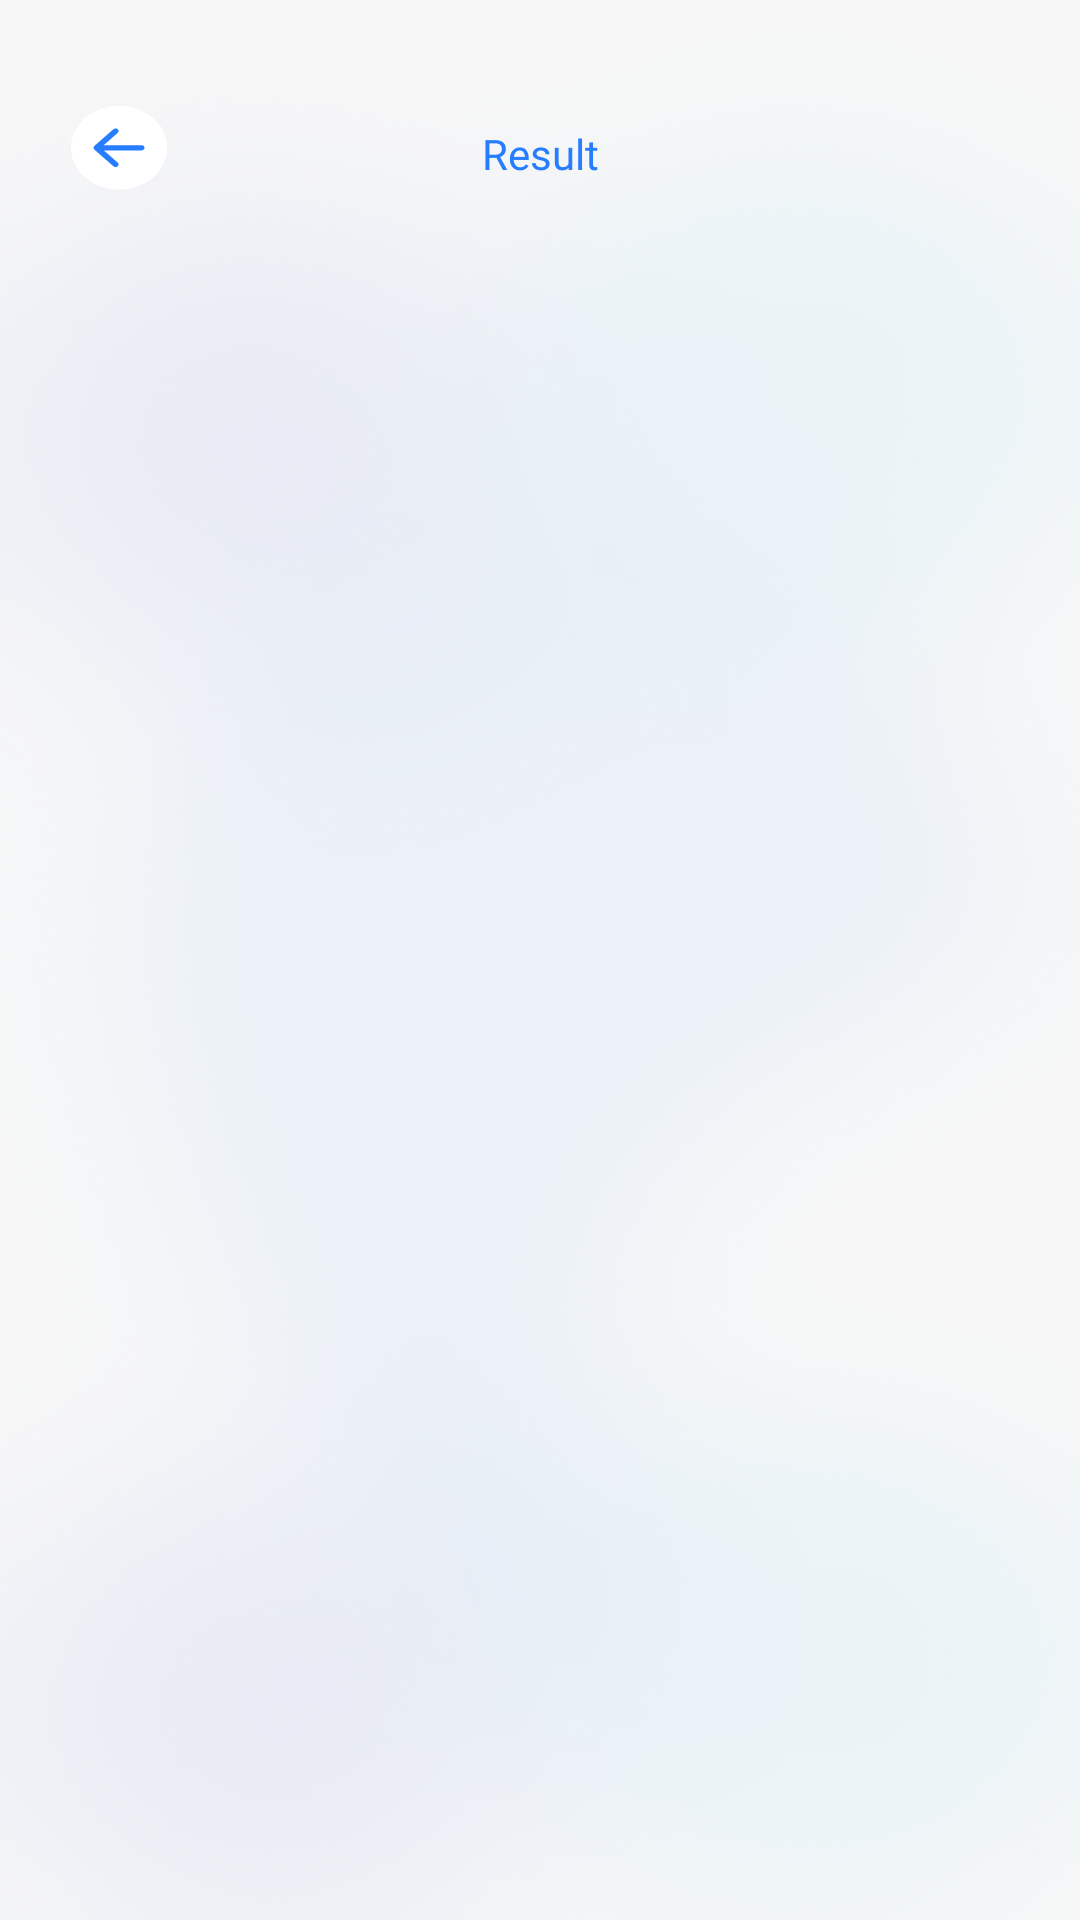

Icon bounding boxes for this 1080 x 1920 phone screenshot, format (x1, y1, x2, y2):
Back Icon: (71, 106, 167, 189)
